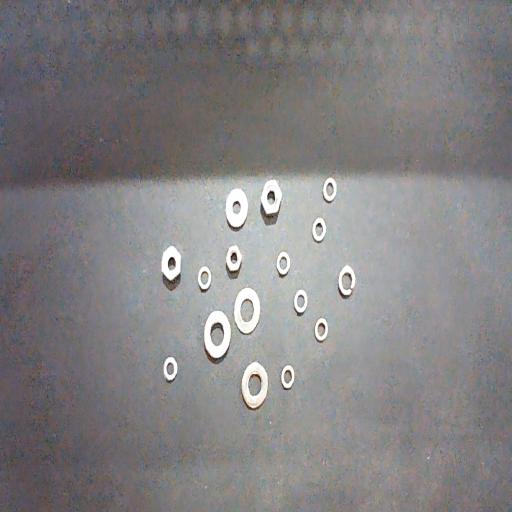nut: (260, 179, 282, 225), (161, 246, 181, 292), (226, 245, 242, 279)
washer: (204, 310, 231, 362), (241, 362, 268, 410), (234, 287, 260, 335), (225, 188, 248, 230), (338, 266, 356, 298), (294, 290, 308, 316), (164, 356, 178, 382), (276, 252, 290, 277), (312, 218, 326, 243), (323, 178, 337, 203), (314, 318, 328, 343), (198, 266, 211, 292), (281, 366, 295, 390)
